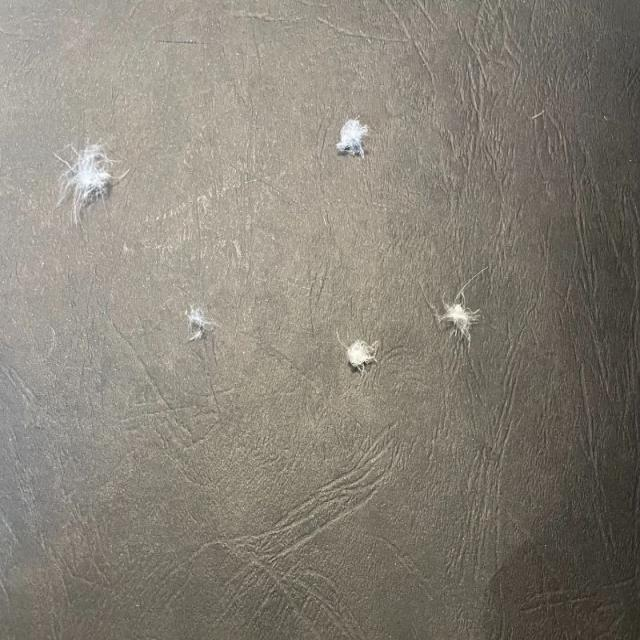feather: (55, 135, 121, 214), (438, 284, 485, 340), (332, 110, 370, 159), (341, 333, 383, 371), (176, 305, 218, 340)
